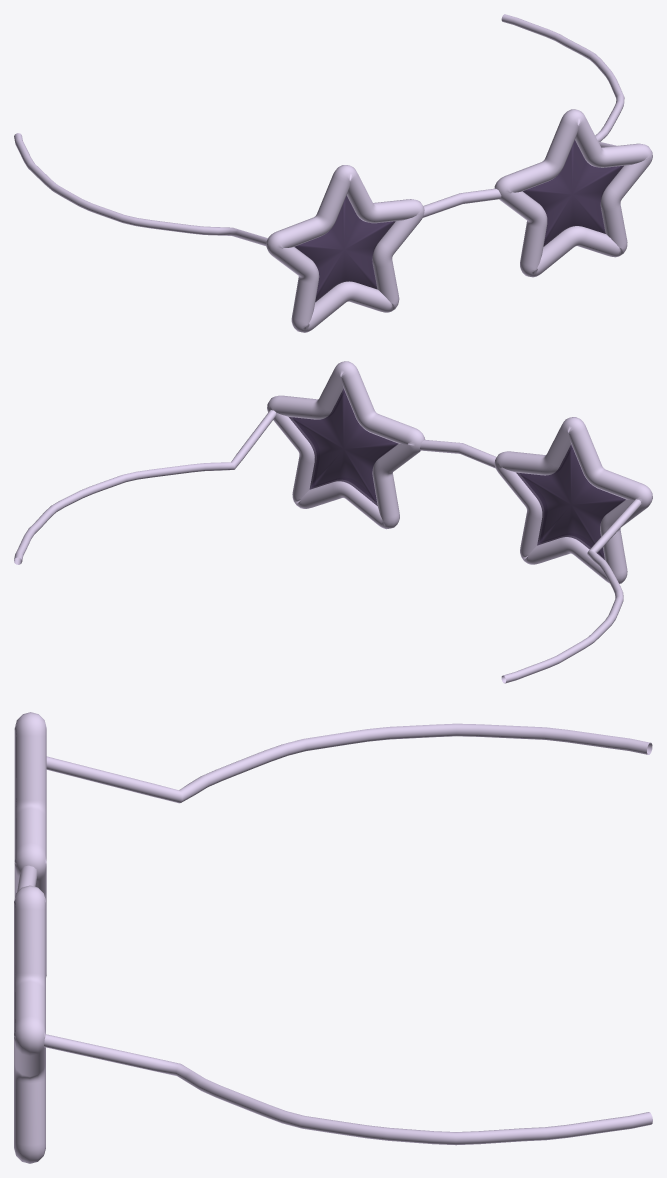
Rendered from restart_glasses_star_penguin.glb.
3 renders of one model, top to bottom at view 1: azimuth 30°, elevation 25°; view 2: azimuth 150°, elevation 25°; view 3: azimuth 270°, elevation 25°, orthographic. The views are drawn at different scales.
Parts seen in each view (by area): view 1: Montura estrella redondeada, Montura estrella redondeada.001, Lente estrella continua, Lente estrella continua.001, Patilla envolvente, Patilla envolvente.001, Puente nasal redondeado; view 2: Montura estrella redondeada.001, Montura estrella redondeada, Lente estrella continua.001, Lente estrella continua, Patilla envolvente.001, Patilla envolvente, Puente nasal redondeado; view 3: Montura estrella redondeada.001, Patilla envolvente.001, Patilla envolvente, Montura estrella redondeada.
Part boxes in pixels (bbox=[...]): Montura estrella redondeada: bbox=[266, 165, 424, 332]; Montura estrella redondeada.001: bbox=[494, 109, 652, 277]; Lente estrella continua: bbox=[294, 195, 395, 301]; Lente estrella continua.001: bbox=[523, 140, 623, 246]; Patilla envolvente: bbox=[14, 133, 267, 245]; Patilla envolvente.001: bbox=[501, 14, 624, 147]; Puente nasal redondeado: bbox=[423, 188, 501, 217]; Montura estrella redondeada.001: bbox=[267, 361, 425, 529]; Montura estrella redondeada: bbox=[494, 417, 652, 583]; Lente estrella continua.001: bbox=[289, 388, 398, 505]; Lente estrella continua: bbox=[516, 444, 625, 559]; Patilla envolvente.001: bbox=[14, 410, 276, 564]; Patilla envolvente: bbox=[501, 499, 641, 683]; Puente nasal redondeado: bbox=[420, 440, 496, 468]; Montura estrella redondeada.001: bbox=[14, 885, 45, 1163]; Patilla envolvente.001: bbox=[44, 1034, 652, 1145]; Patilla envolvente: bbox=[46, 723, 652, 803]; Montura estrella redondeada: bbox=[14, 712, 46, 976].
Size of the model in its own units: 0.6723 by 0.1842 by 0.4384.
